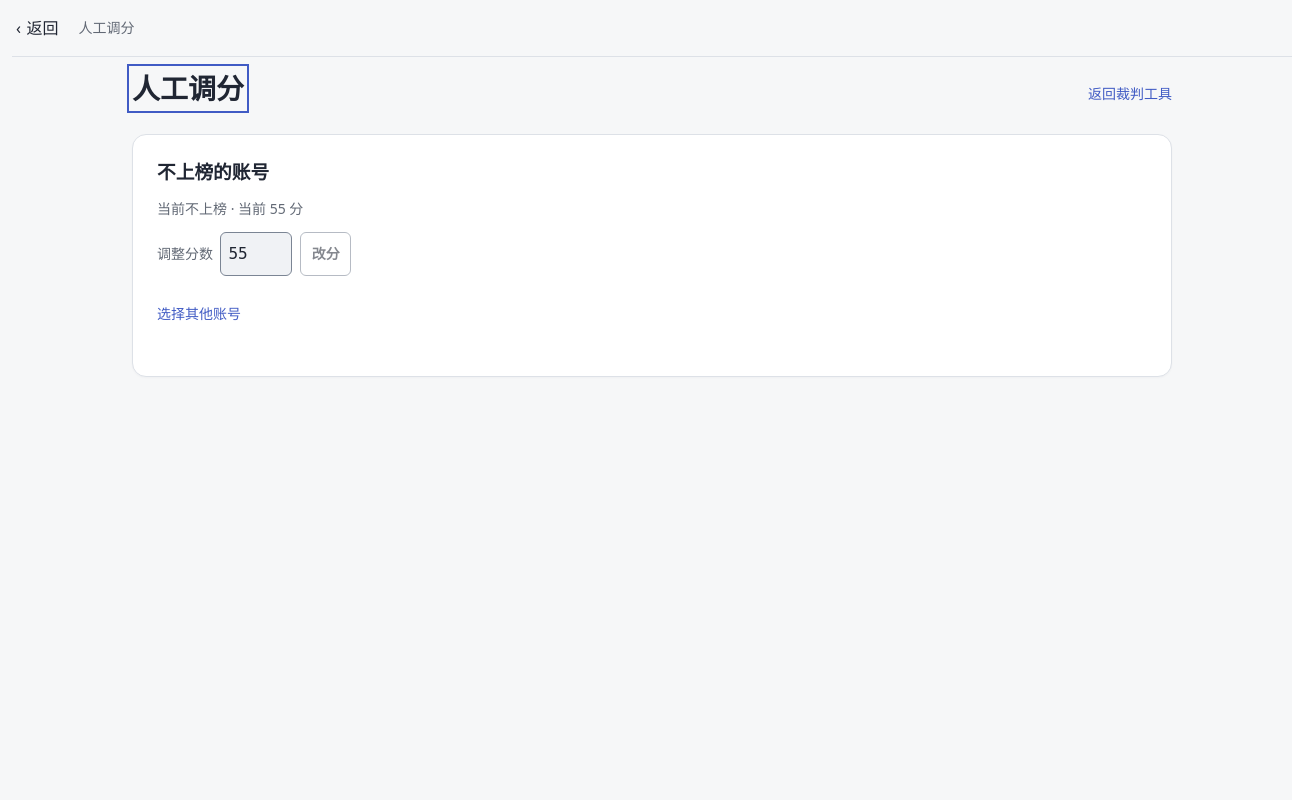
Test case: manual score correction › directly resolves a selected unlisted account and keeps the existing two-step zero-score flow
Replace the text in the number field labelled "调整分数" with "0": {"x": 256, "y": 254} left=220, top=232, right=292, bottom=276
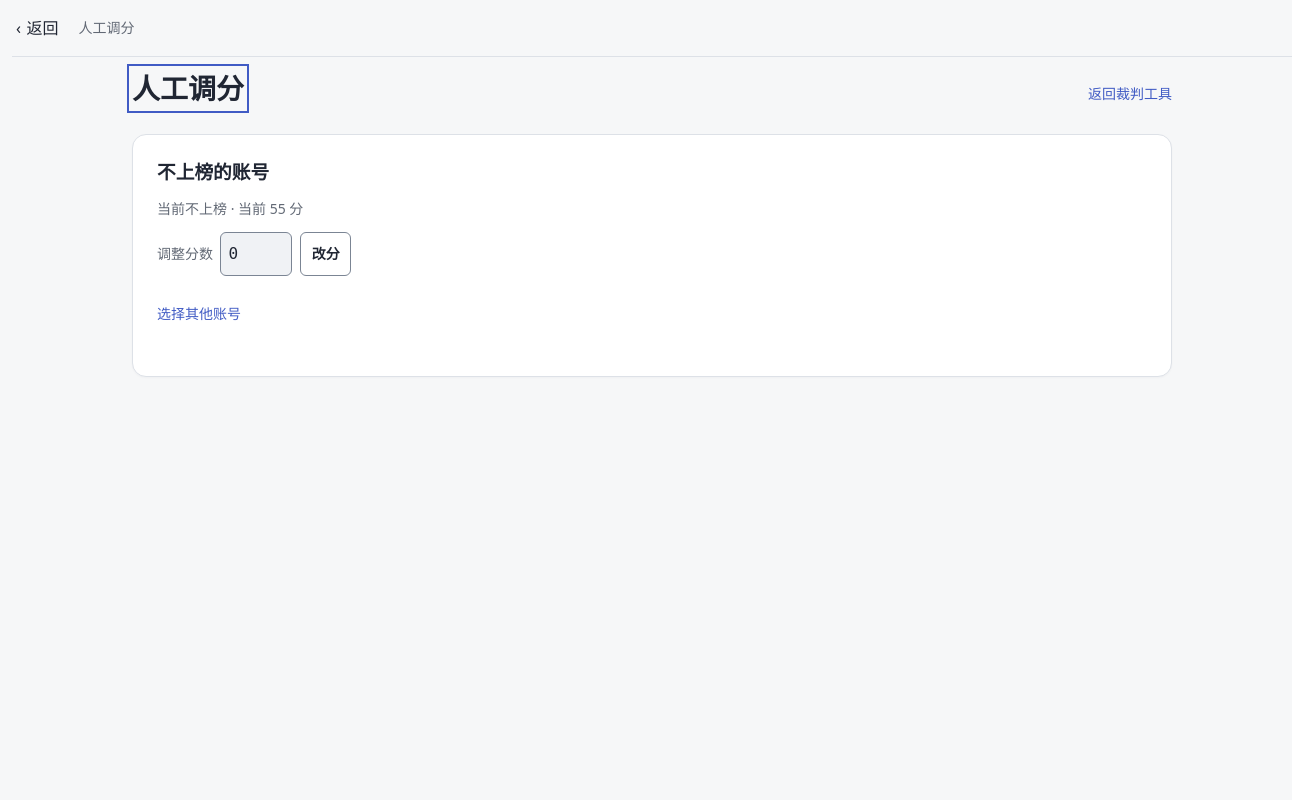
Click the button "改分": {"x": 326, "y": 254} left=300, top=232, right=351, bottom=276
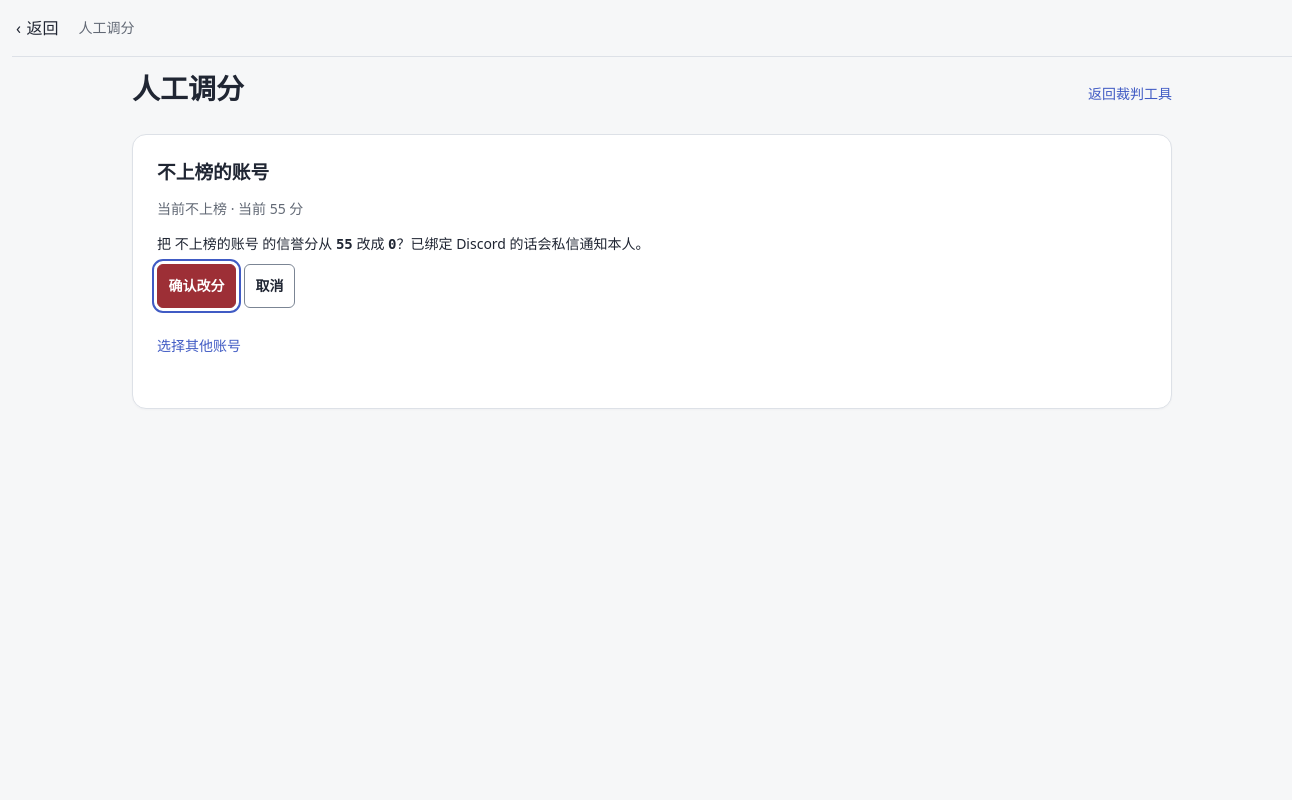
Now the element named "确认调整分数" shows "55", box left=336, top=236, right=353, bottom=252
Click the button "确认改分": {"x": 196, "y": 286} left=157, top=264, right=236, bottom=308
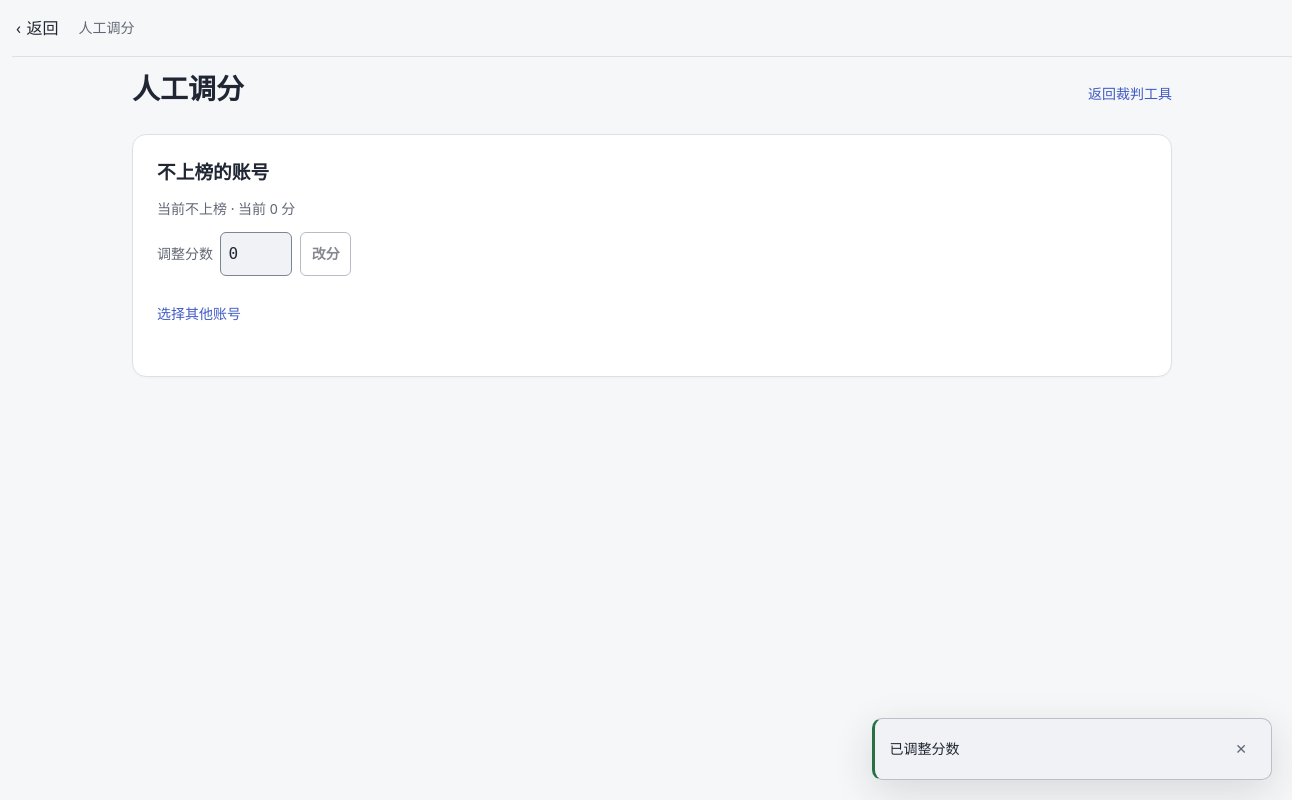
Now the number field labelled "调整分数" holds "0", box left=220, top=232, right=292, bottom=276
